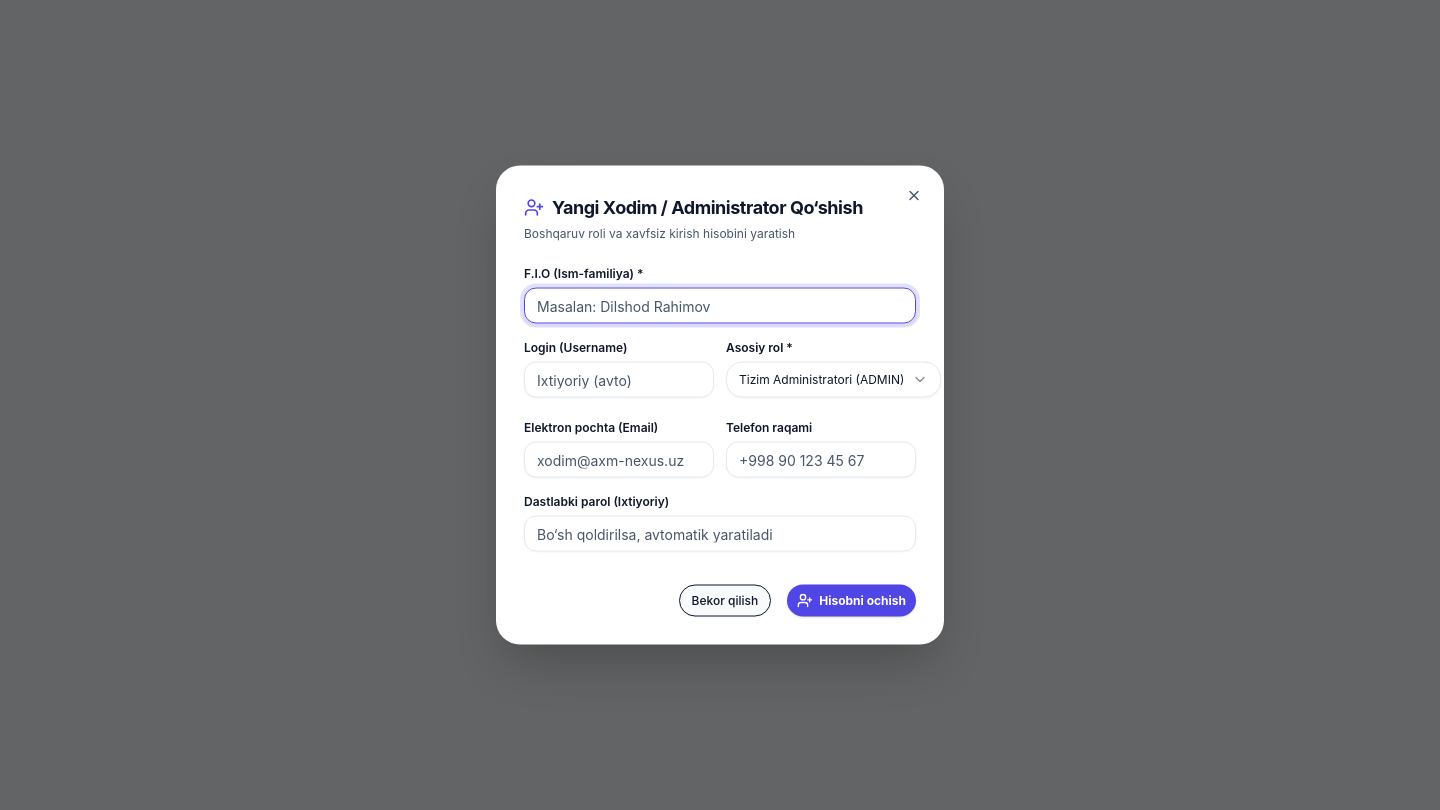
Test case: Module 01: CreateUserModal Component Tests › provisions new administrator/staff user and renders credentials slip
Later steps or results of the test are not shown.
In the field labelled "F.I.O (Ism-familiya) *": (720, 306) [524,288,916,324], type "Dilshod Rahimov"
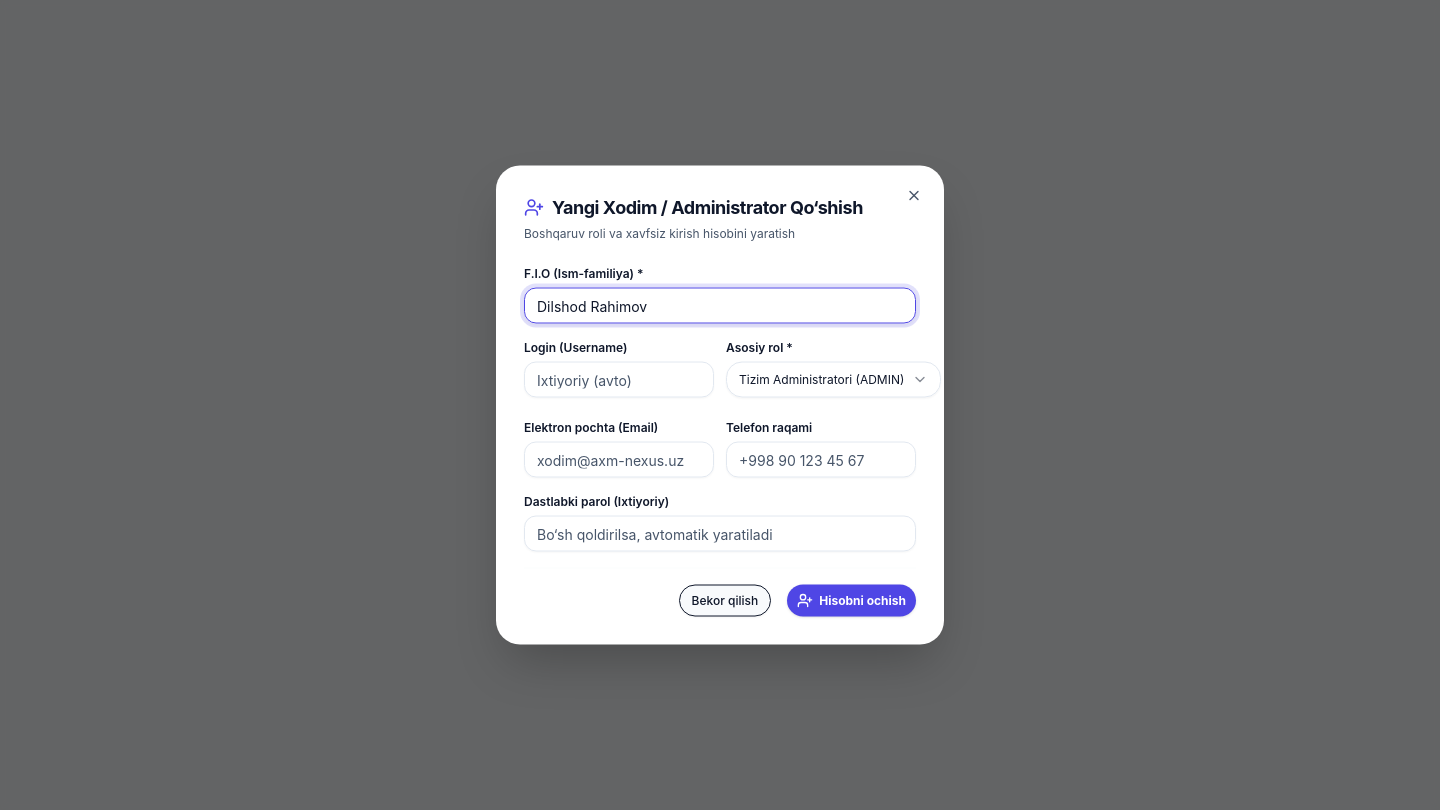
Submit the form, box [524,258,916,616]
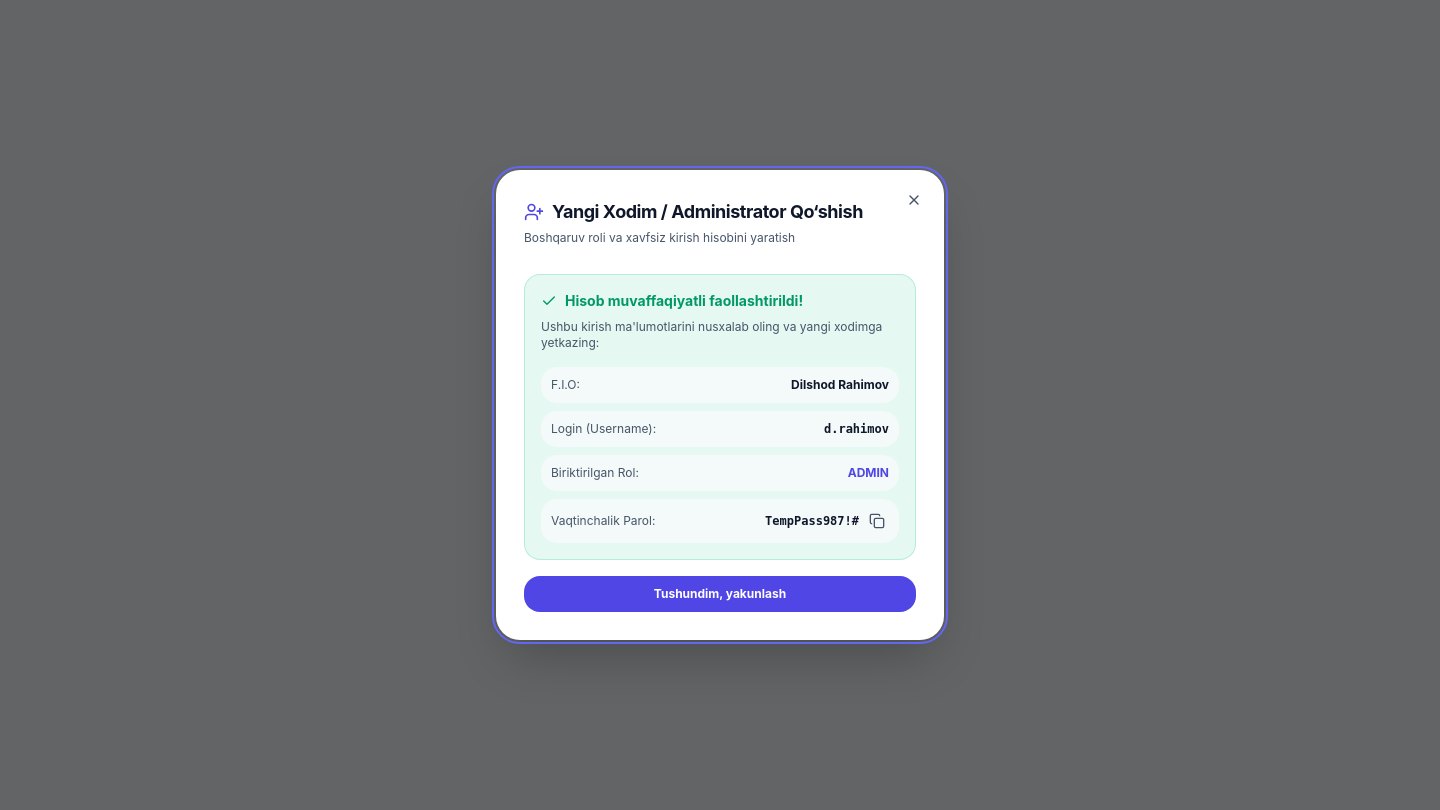
Check: the text "Hisob muvaffaqiyatli faollashtirildi!" is shown, box [565,291,803,311]
Check: the text "d.rahimov" is shown, box [824,421,889,437]
Check: the text "TempPass987!#" is shown, box [765,513,859,529]
